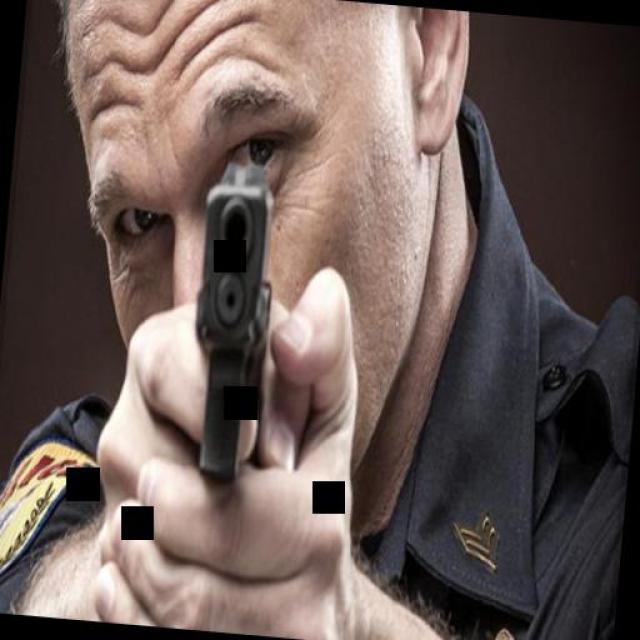gun: (178, 161, 288, 485)
